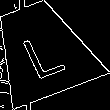L_NW: (15, 21, 68, 79)
